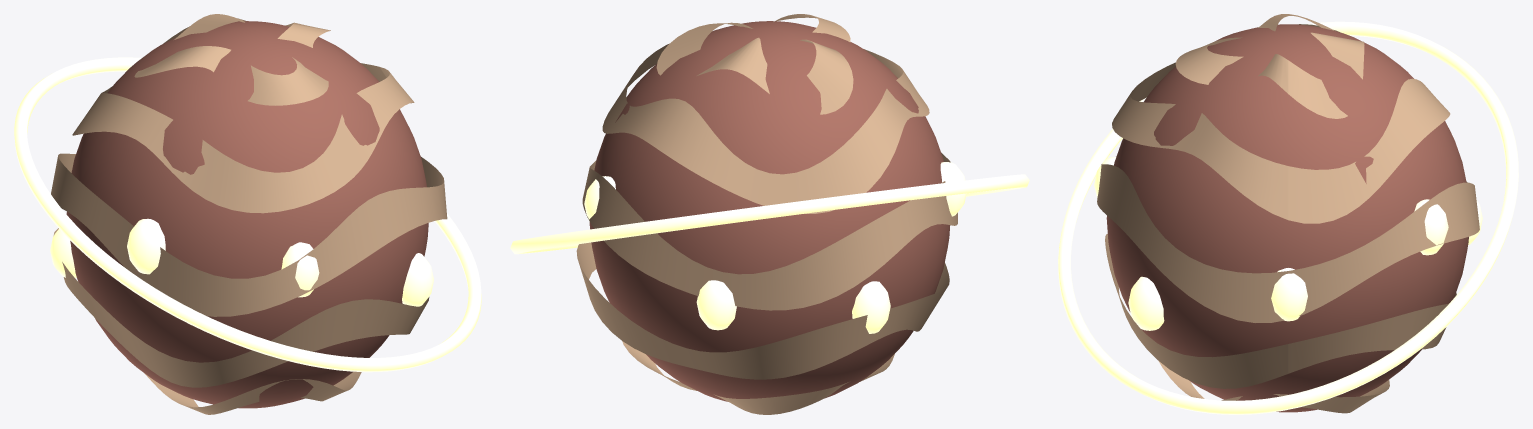
File: project-creative.glb
The picture shows the model from 3 angles, left to right: view 1: azimuth 30°, elevation 25°; view 2: azimuth 150°, elevation 25°; view 3: azimuth 270°, elevation 25°; orthographic projection.
Visible parts, largest first — view 1: body_hull.002, body_ceramic.002, body_light.002; view 2: body_hull.002, body_ceramic.002, body_light.002; view 3: body_hull.002, body_ceramic.002, body_light.002.
Boxes of the visible parts, x1,y1,x2,y2 form: body_hull.002: (66, 21, 428, 408); body_ceramic.002: (51, 14, 447, 414); body_light.002: (14, 57, 481, 372); body_hull.002: (589, 21, 950, 401); body_ceramic.002: (576, 14, 957, 414); body_light.002: (510, 162, 1029, 333); body_hull.002: (1106, 24, 1468, 412); body_ceramic.002: (1097, 14, 1479, 413); body_light.002: (1058, 21, 1518, 414).
Size of the model in its own units: 1.88 by 1.49 by 1.71.
